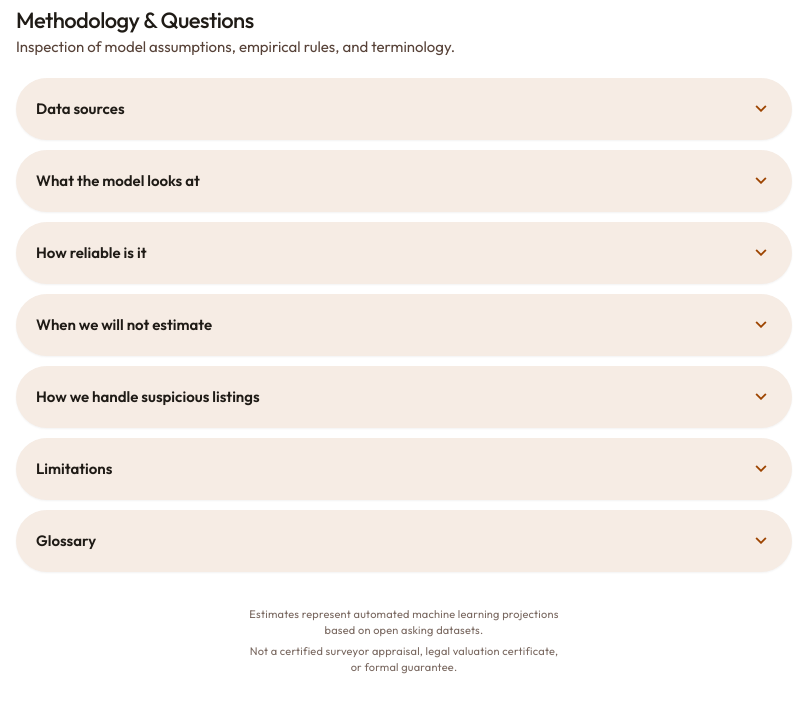
it: P8b (f): pipeline + FAQ copy is data-driven › the glossary renders feature entries + the app-wide MedAPE term
(page scrolled)
Click the button "Glossary": (66, 540) [16,510,792,572]
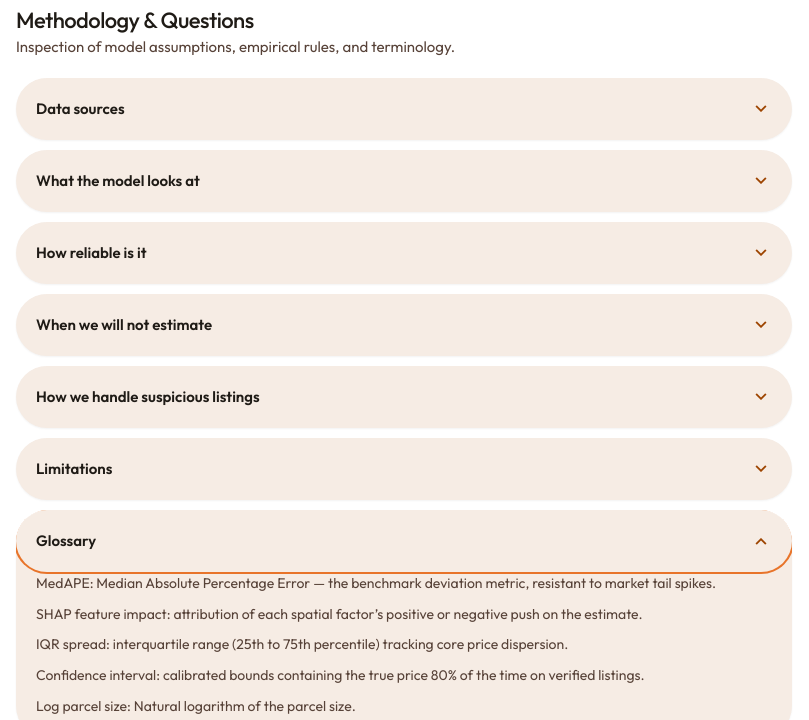
Result: the text "MedAPE:" is shown at [36,574,716,592]
Result: the text "Log parcel size: Natural logarithm of the parcel size." is shown at [36,697,356,715]
